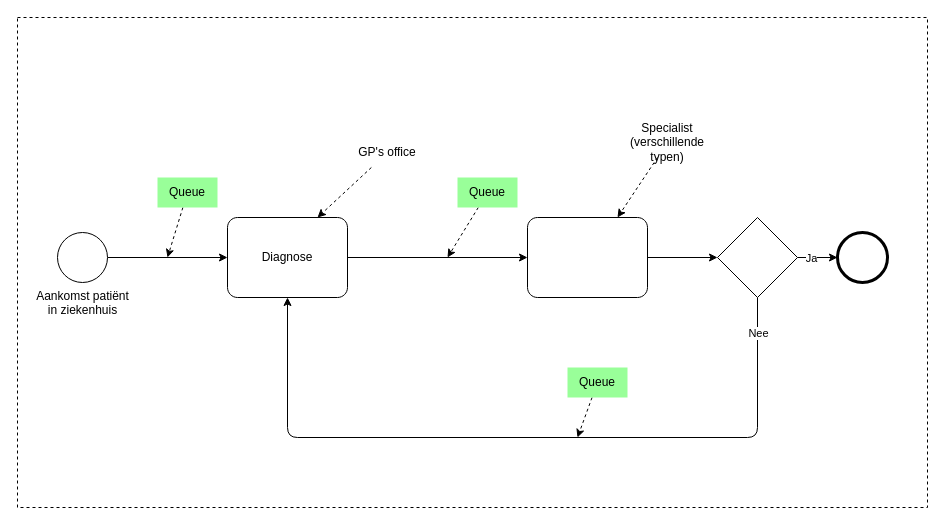
The diagram is 945 pixels wide and 525 high, and some of its shapes have lost their labels. Here are the shapes that lost their labels. From the top down, the centre of each, then its label:
At [587,257]: "Behandeling".
At [757,257]: "Behandeling succesvol?".
